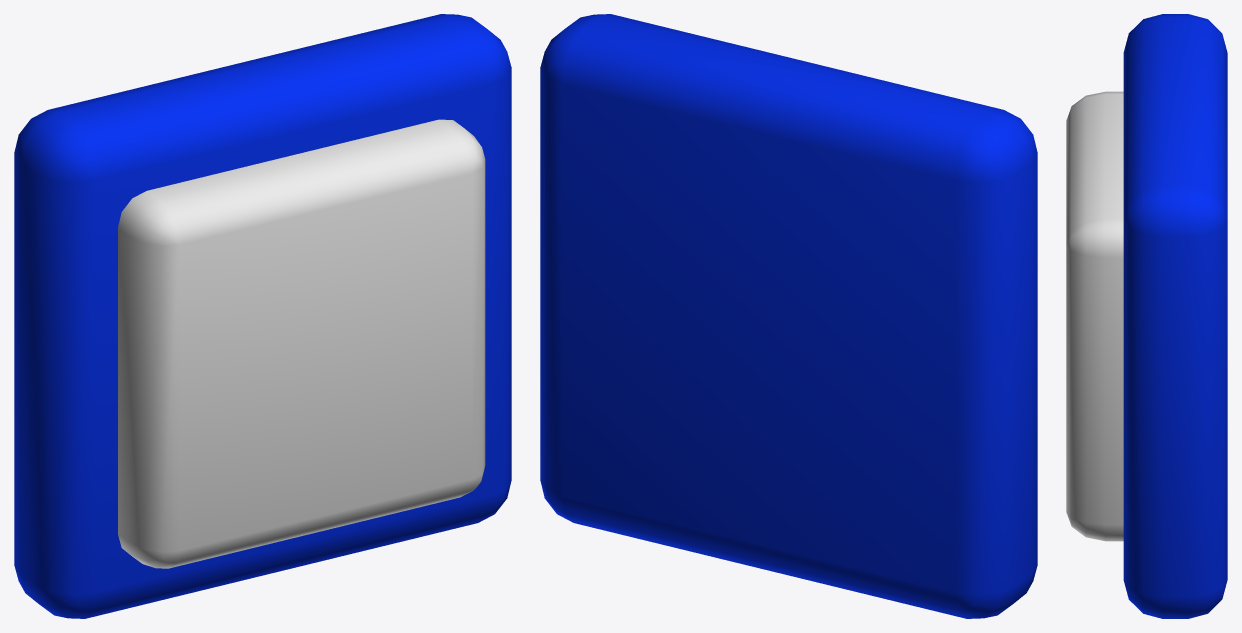
The model's file is Button.FBX.
3 views of the same model, side by side, from view 1: azimuth 30°, elevation 25°; view 2: azimuth 150°, elevation 25°; view 3: azimuth 270°, elevation 25° (orthographic). The views are drawn at different scales.
Visible parts, largest first — view 1: Button, Marco; view 2: Marco; view 3: Marco, Button.
Part boxes in pixels (x1=…): Button: x1=118, y1=119, x2=485, y2=568; Marco: x1=14, y1=14, x2=511, y2=618; Marco: x1=540, y1=14, x2=1037, y2=618; Marco: x1=1123, y1=14, x2=1227, y2=618; Button: x1=1066, y1=91, x2=1123, y2=541.
Size of the model in its own units: 9.99 by 9.99 by 3.39.
